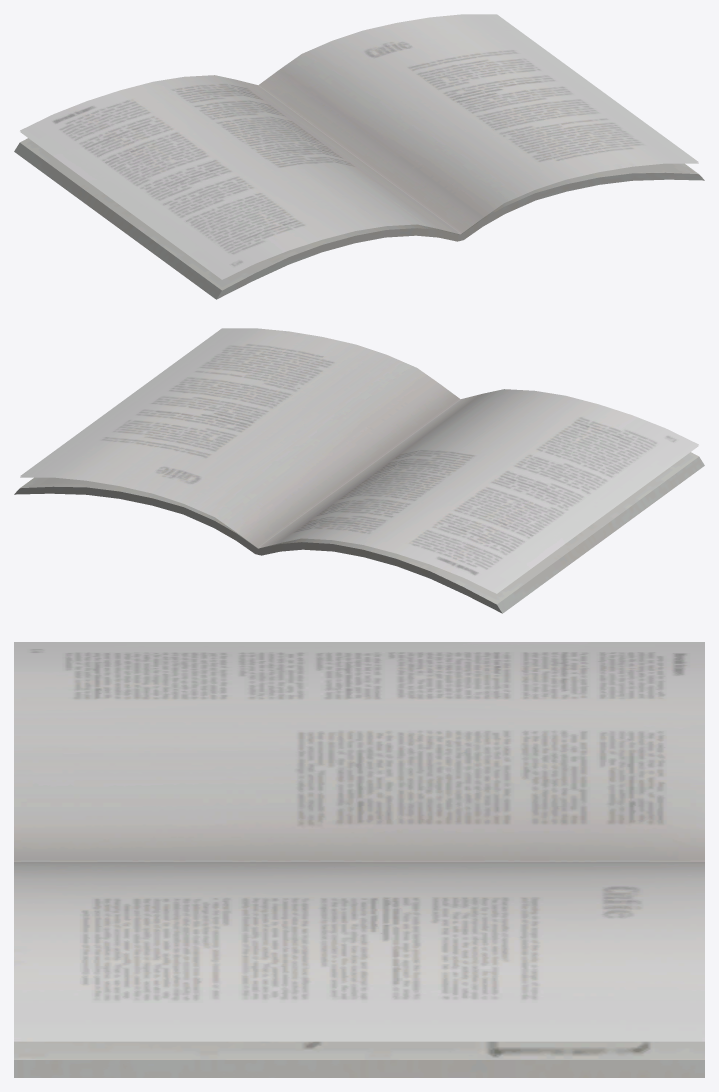
File: magazine_tech_open.dae
3 views of the same model, one above another, from view 1: azimuth 30°, elevation 25°; view 2: azimuth 150°, elevation 25°; view 3: azimuth 270°, elevation 25° (orthographic). The views are drawn at different scales.
Visible parts, largest first — view 1: magazine_tech_open; view 2: magazine_tech_open; view 3: magazine_tech_open.
Part boxes in pixels (x1=…): magazine_tech_open: x1=14, y1=14, x2=704, y2=299; magazine_tech_open: x1=14, y1=328, x2=704, y2=613; magazine_tech_open: x1=14, y1=642, x2=704, y2=1077.
Bounding box in the file's own units: 55.62 × 3.99 × 39.9.
